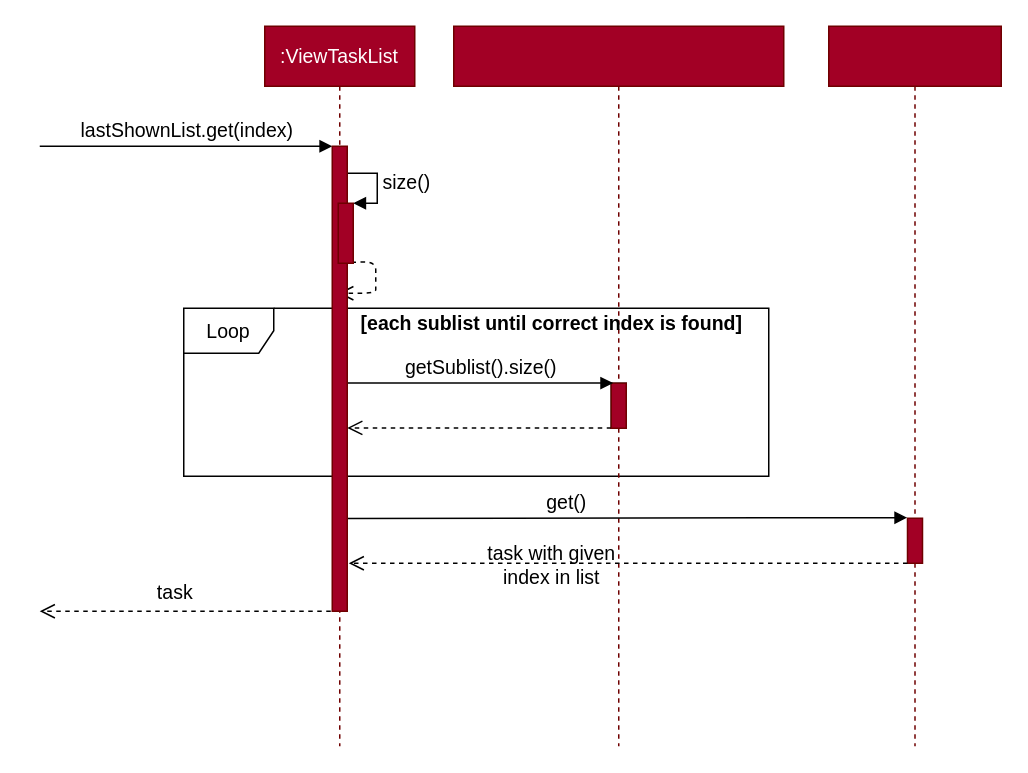
Image size: 1028x773. Some labels were removed from this diagram. Each missing label, with the box of its shape:
:ObservableList<SubgroupTaskList>: (452, 25, 784, 746)
:SubgroupTaskList: (827, 25, 1001, 746)
